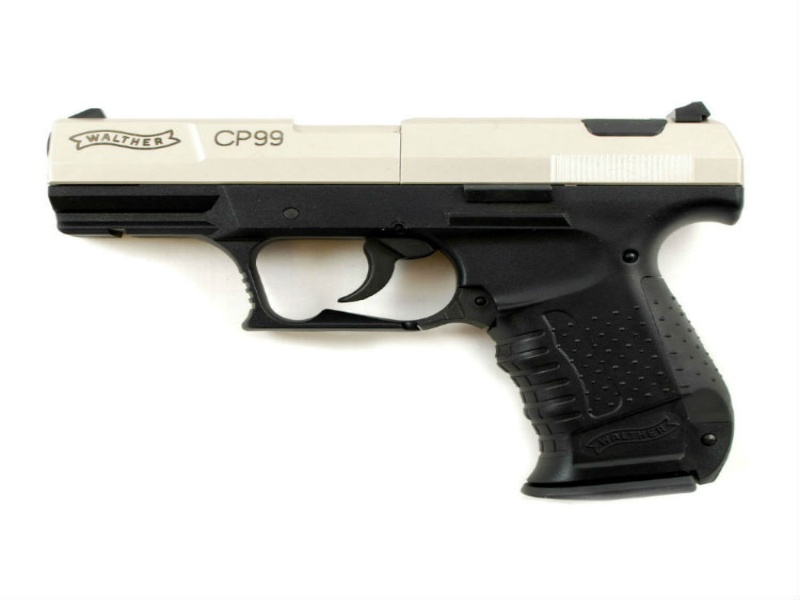gun: (42, 101, 747, 506)
